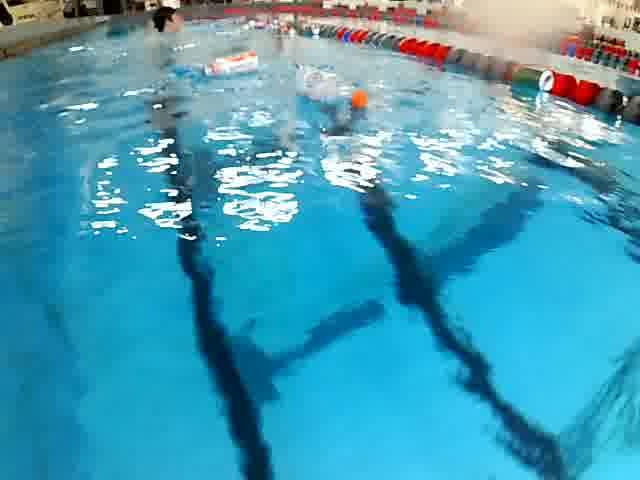Bottle: (288, 59, 372, 115), (196, 46, 266, 82)
Can: (508, 59, 555, 96)
